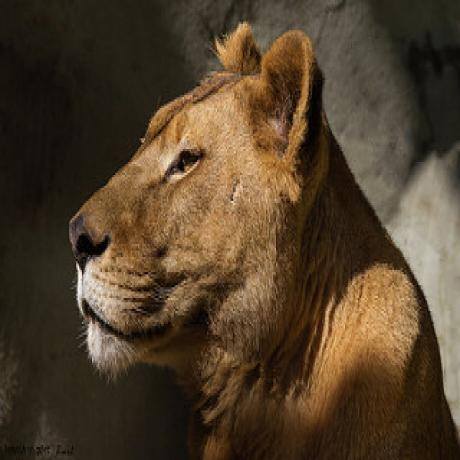Lion: (64, 0, 460, 460)
